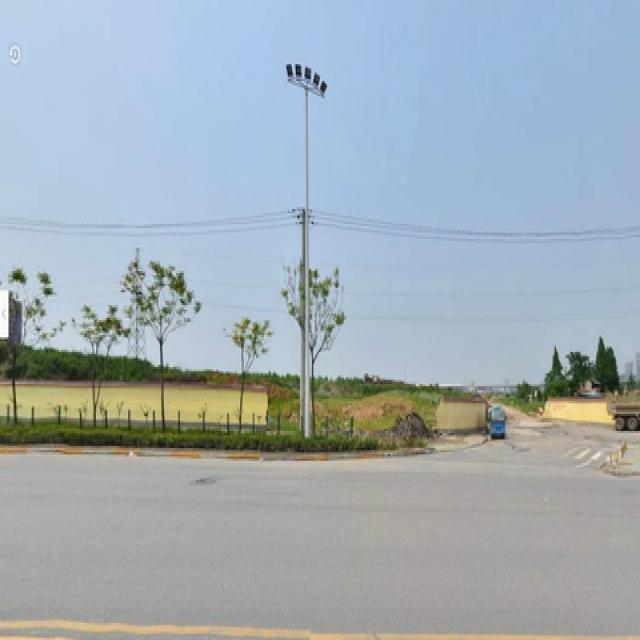koel: (147, 269, 190, 437), (5, 267, 40, 386), (228, 305, 256, 408), (75, 312, 105, 408)
